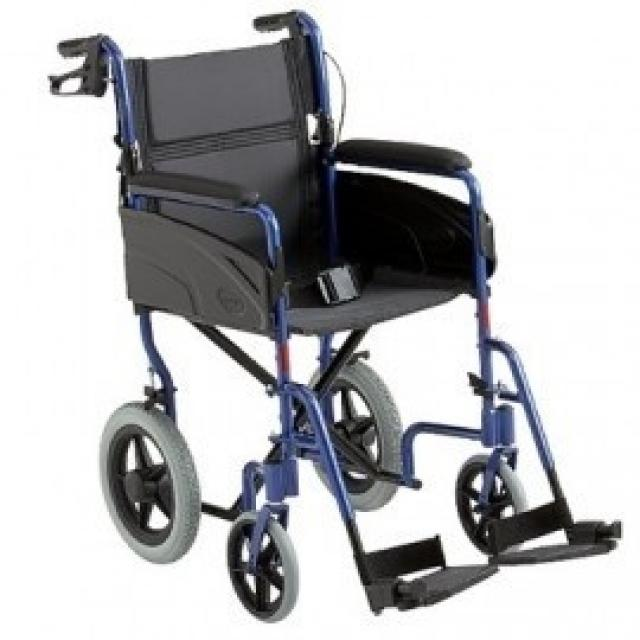wheelchair: (39, 0, 633, 620)
